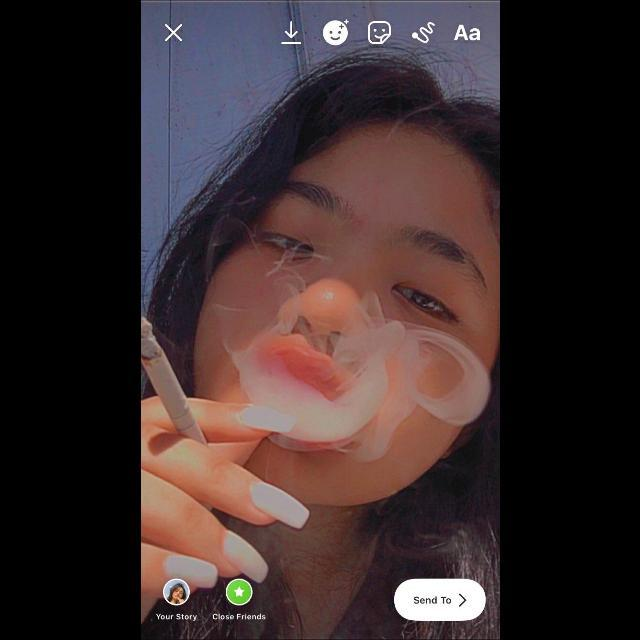rokok: (140, 311, 203, 443)
